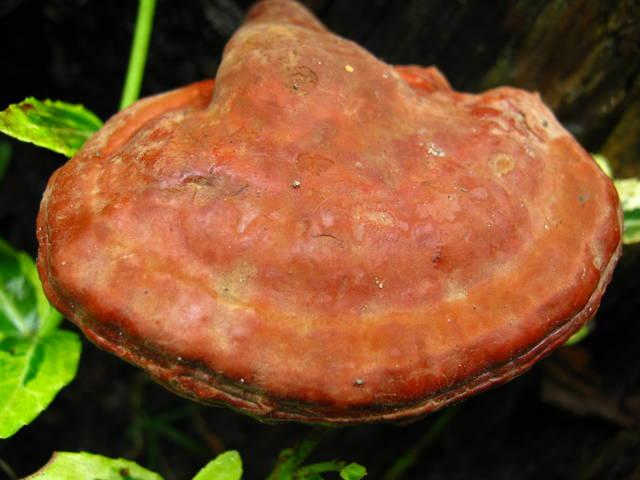Non-edible Mushroom: (33, 0, 625, 427)
